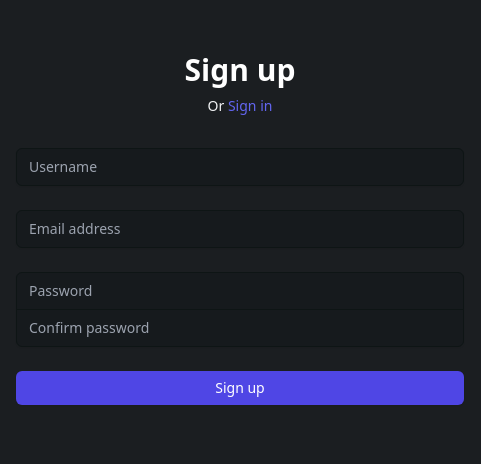
Register › shows error when username is empty
Type "foobar" into the field with test id "email-address". click: (240, 228)
box: [16,210,464,248]
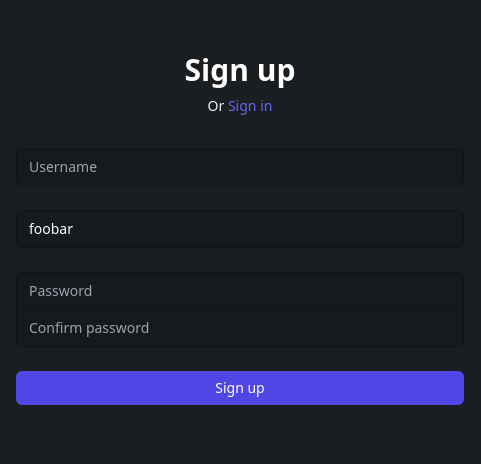
Type "foobar" into the password field with test id "password". click: (240, 290)
box: [16,272,464,310]
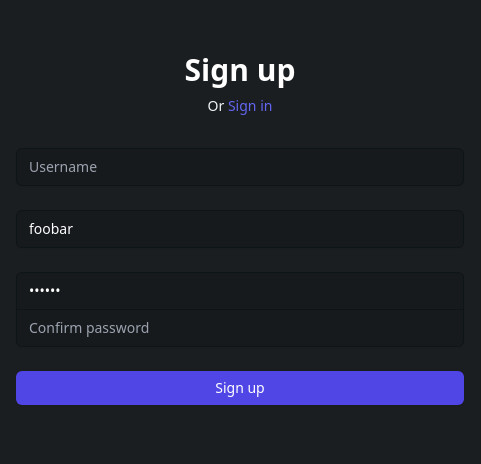
Type "foobar" into the password field with test id "confirm-password". click: (240, 328)
box: [16,308,464,346]
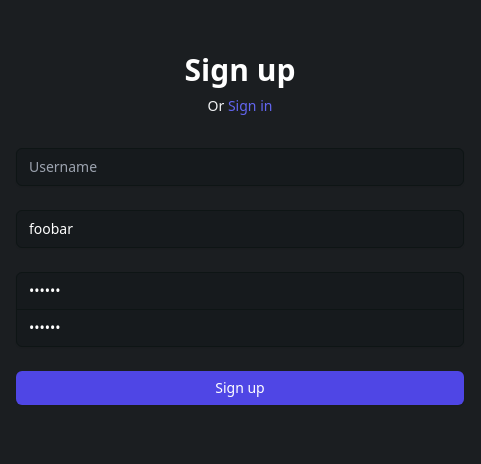
Click the button. click: click(240, 388)
box: [16,370,464,404]
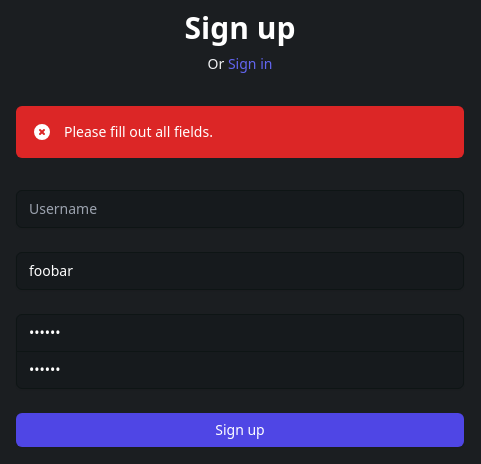
Now the heading "Please fill out all fields." is shown, box [64,122,213,142]
